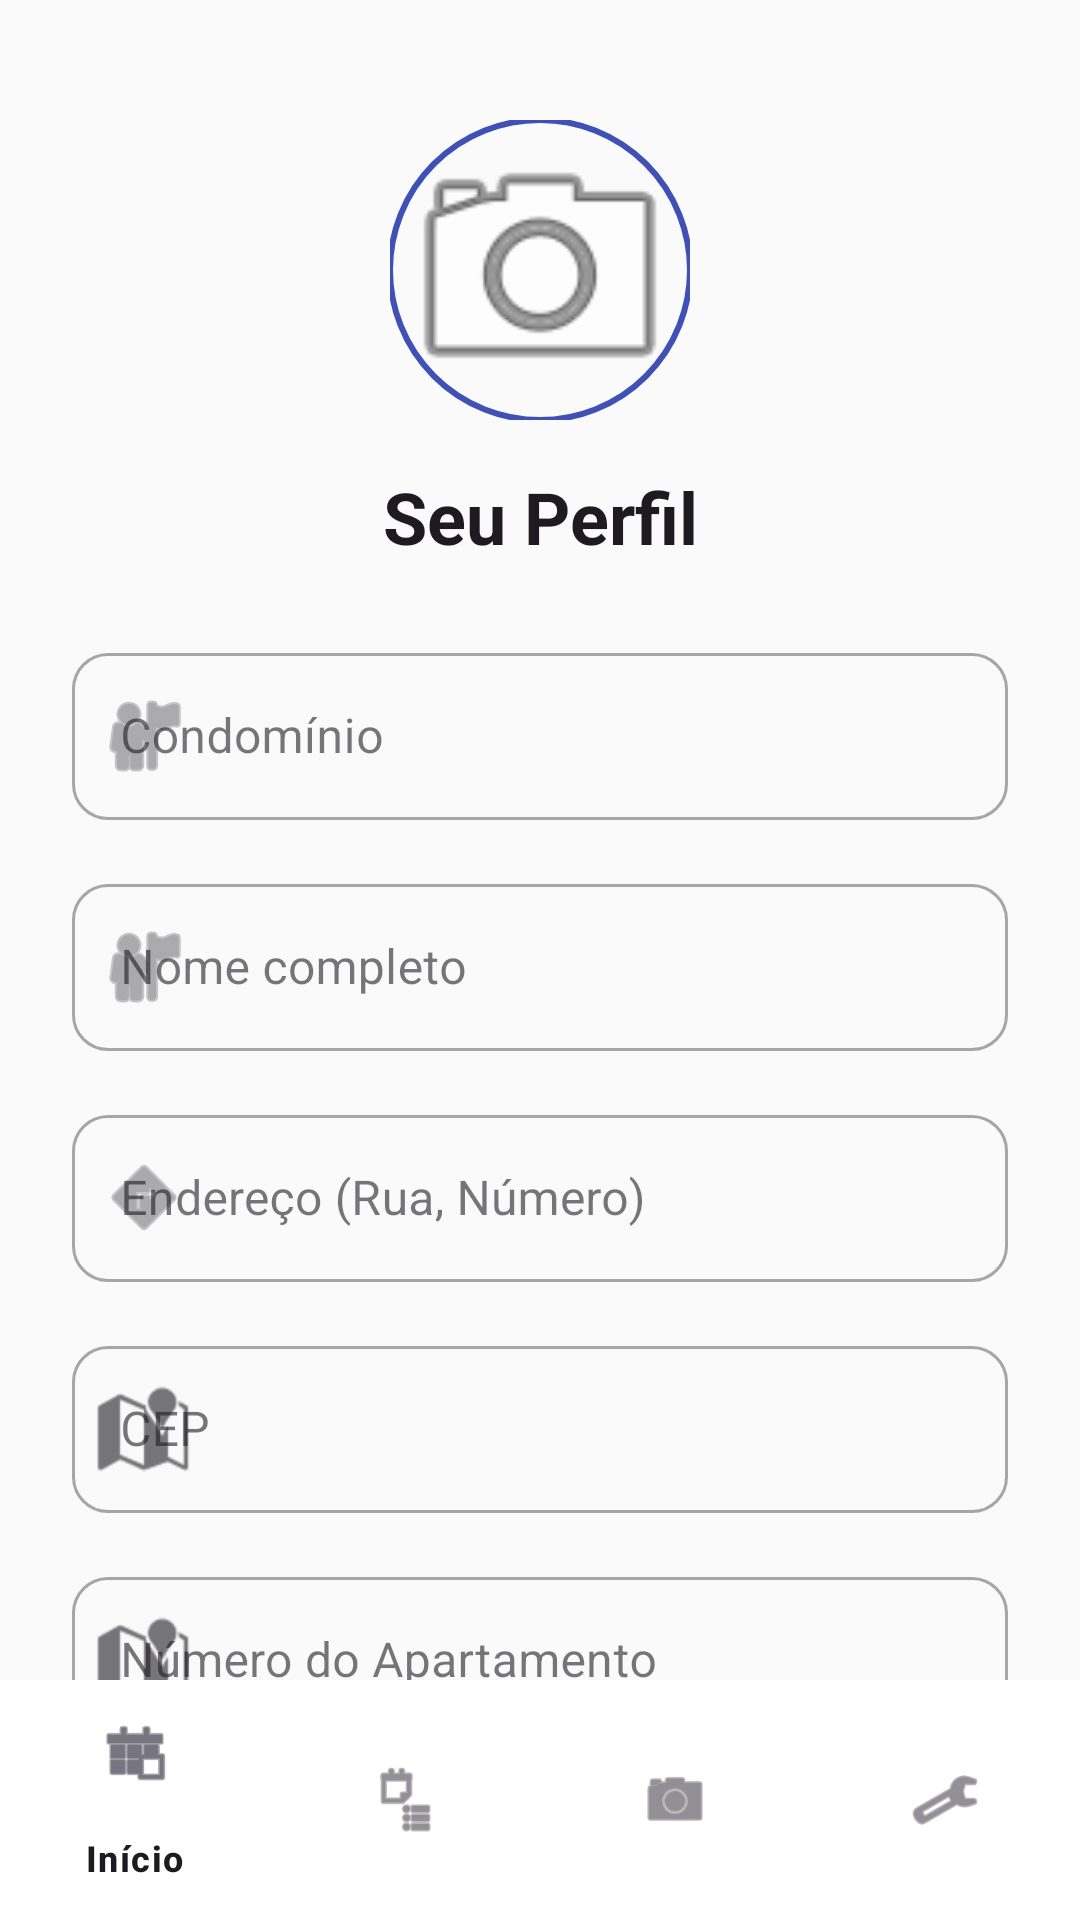

Where to tap for icons on this 1080px×1920px app screen, as (x,y):
Foto de Perfil: (540,270)
